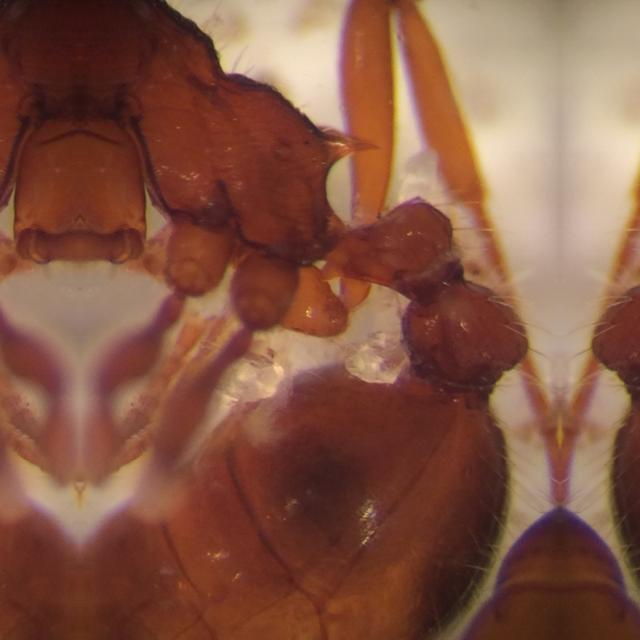Myrmica: (84, 0, 550, 626)
